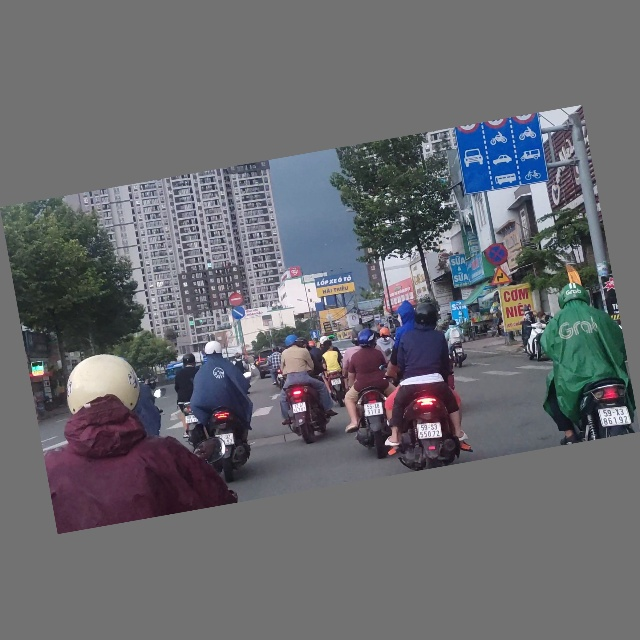I.407a: (310, 331, 319, 340)
I.434a: (373, 314, 382, 325)
P.102: (228, 292, 244, 308)
P.130: (484, 242, 509, 268)
R.302a: (231, 306, 246, 322)
R.415a: (455, 122, 549, 196)
W.202b: (487, 265, 513, 287)
